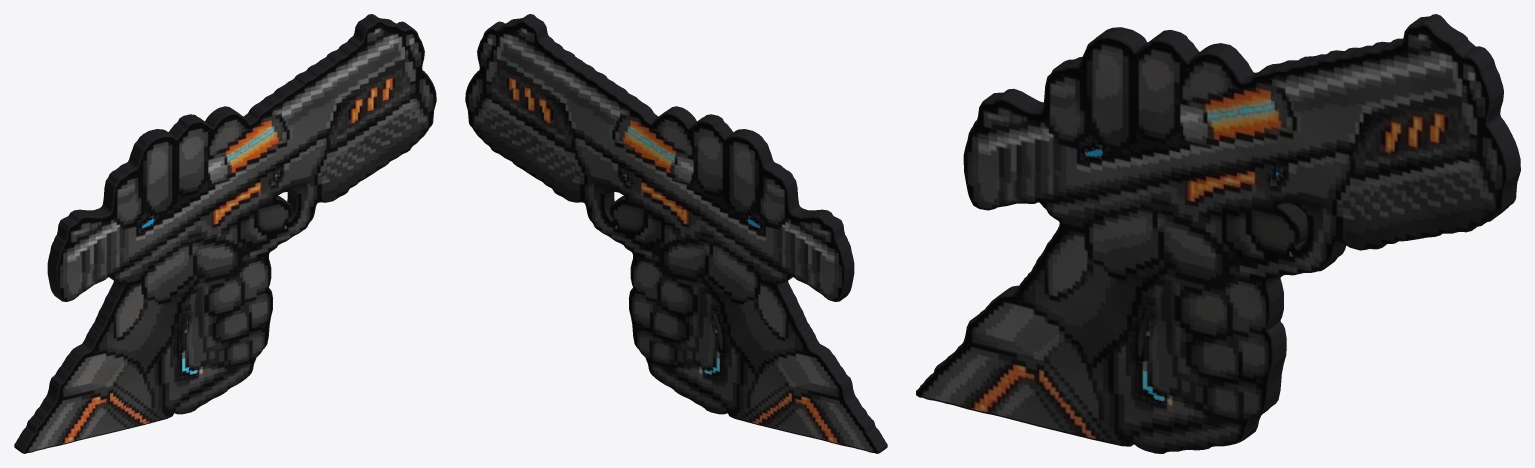
File: pistol_overheat_1.glb
3 renders of one model, left to right at view 1: azimuth 30°, elevation 25°; view 2: azimuth 150°, elevation 25°; view 3: azimuth 330°, elevation 25°, orthographic. The views are drawn at different scales.
Parts seen in each view (by area): view 1: pistol_overheat_1; view 2: pistol_overheat_1; view 3: pistol_overheat_1.
Part boxes in pixels (x1,y1,x2,y2): pistol_overheat_1: (14,14,436,453); pistol_overheat_1: (465,14,887,453); pistol_overheat_1: (916,14,1520,453).
Bounding box in the file's own units: 3.11 × 2.49 × 0.124.
Materials: 3 (2 with a texture image).
